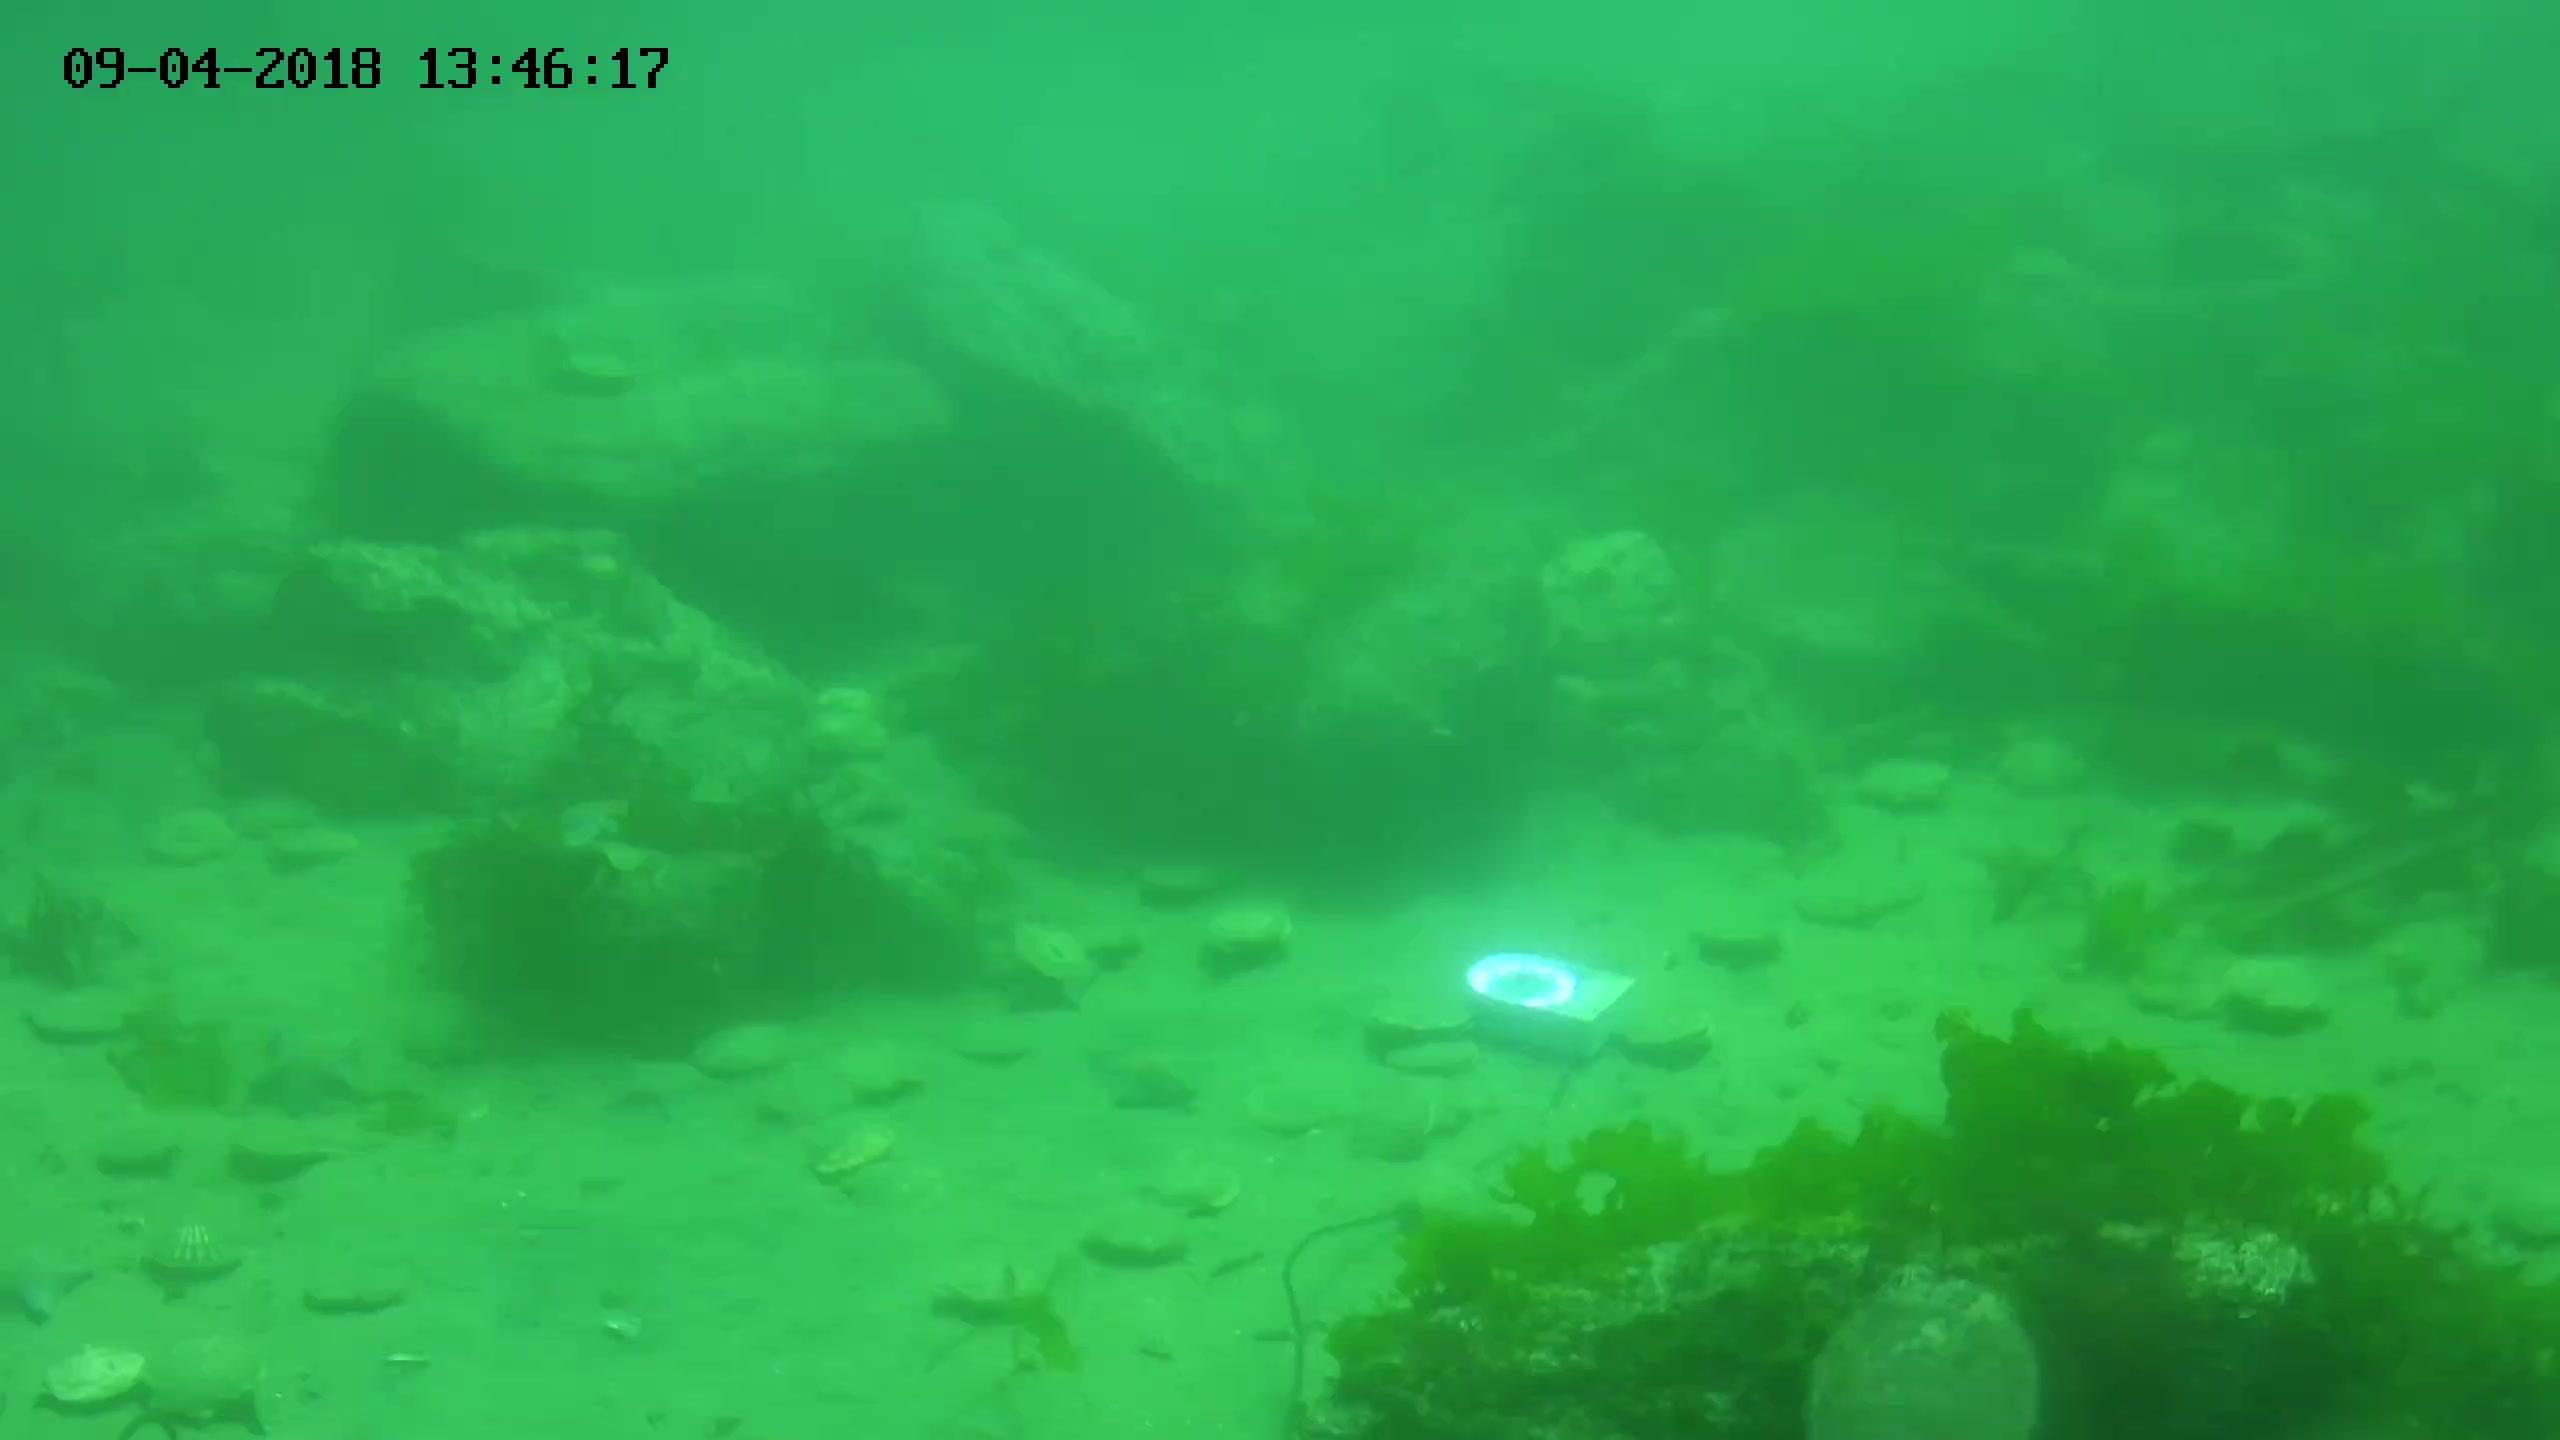scallop: (144, 1340, 281, 1433), (2222, 949, 2337, 1036), (2122, 955, 2233, 1030), (42, 1342, 149, 1417), (23, 978, 141, 1046), (687, 1016, 804, 1085), (1080, 1199, 1187, 1271), (301, 1257, 417, 1322), (144, 1215, 248, 1285), (1007, 921, 1111, 992), (1129, 847, 1254, 905), (1199, 897, 1308, 962), (1994, 731, 2092, 802), (1146, 1150, 1247, 1218), (135, 802, 234, 870), (1853, 751, 1955, 816), (832, 1036, 934, 1099), (1616, 1006, 1713, 1071), (1361, 993, 1487, 1041), (225, 1136, 339, 1187), (220, 789, 325, 840), (559, 341, 642, 401), (1247, 1078, 1336, 1131), (809, 1131, 900, 1182), (1380, 1034, 1482, 1080), (798, 712, 886, 761), (264, 819, 353, 867), (95, 1136, 199, 1173), (958, 1027, 1050, 1058), (818, 684, 879, 724)
starfish: (234, 1020, 382, 1122), (1101, 1030, 1211, 1122), (2, 1231, 105, 1327), (603, 1051, 710, 1125), (993, 951, 1102, 1023), (373, 1080, 447, 1143)
